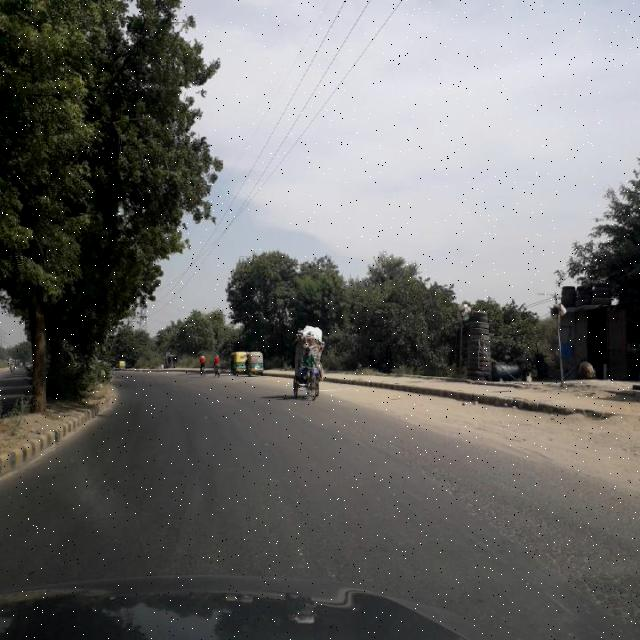D20: (549, 501, 639, 627)
